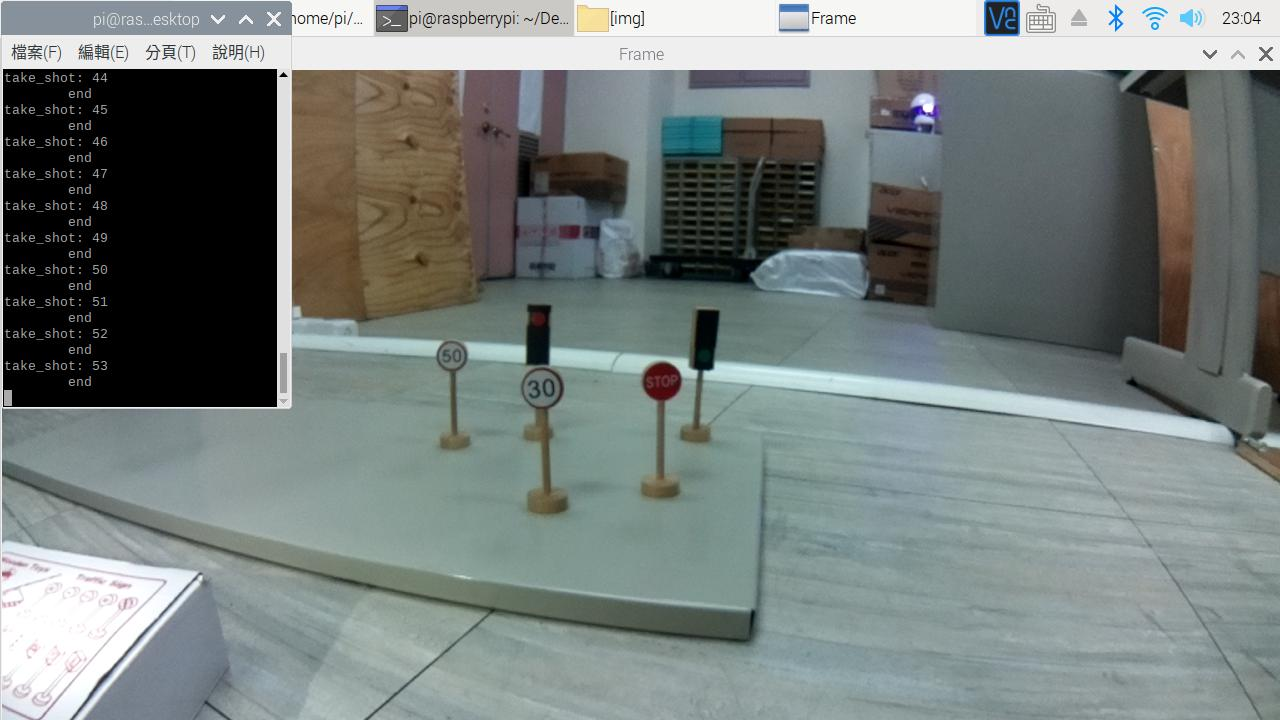Green: (688, 303, 723, 375)
Red: (528, 304, 554, 368)
Speed30: (518, 375, 572, 411)
Speed50: (440, 338, 468, 370)
Stop: (636, 362, 687, 404)
